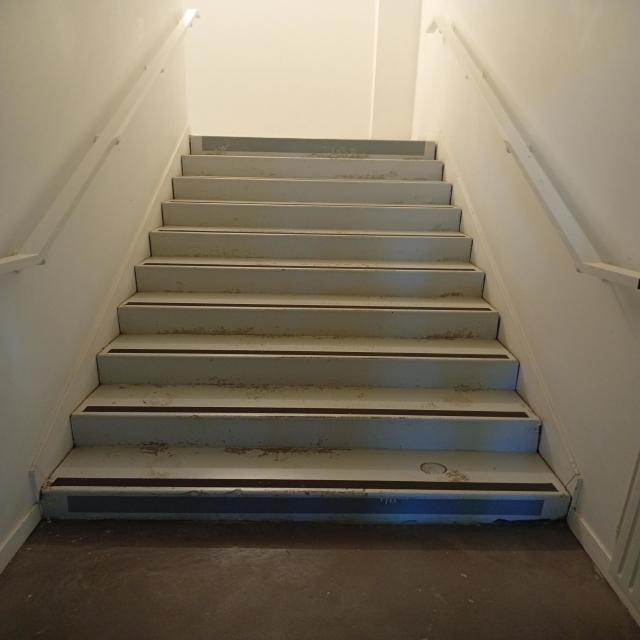Stairs: (42, 136, 589, 541)
